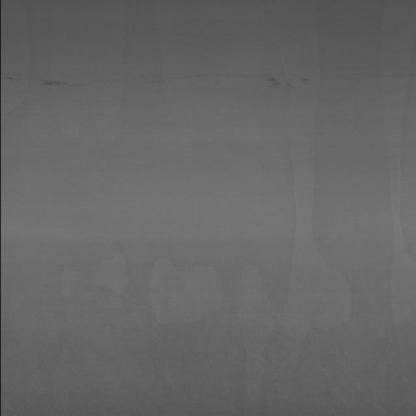water_spot: (10, 68, 305, 103)
